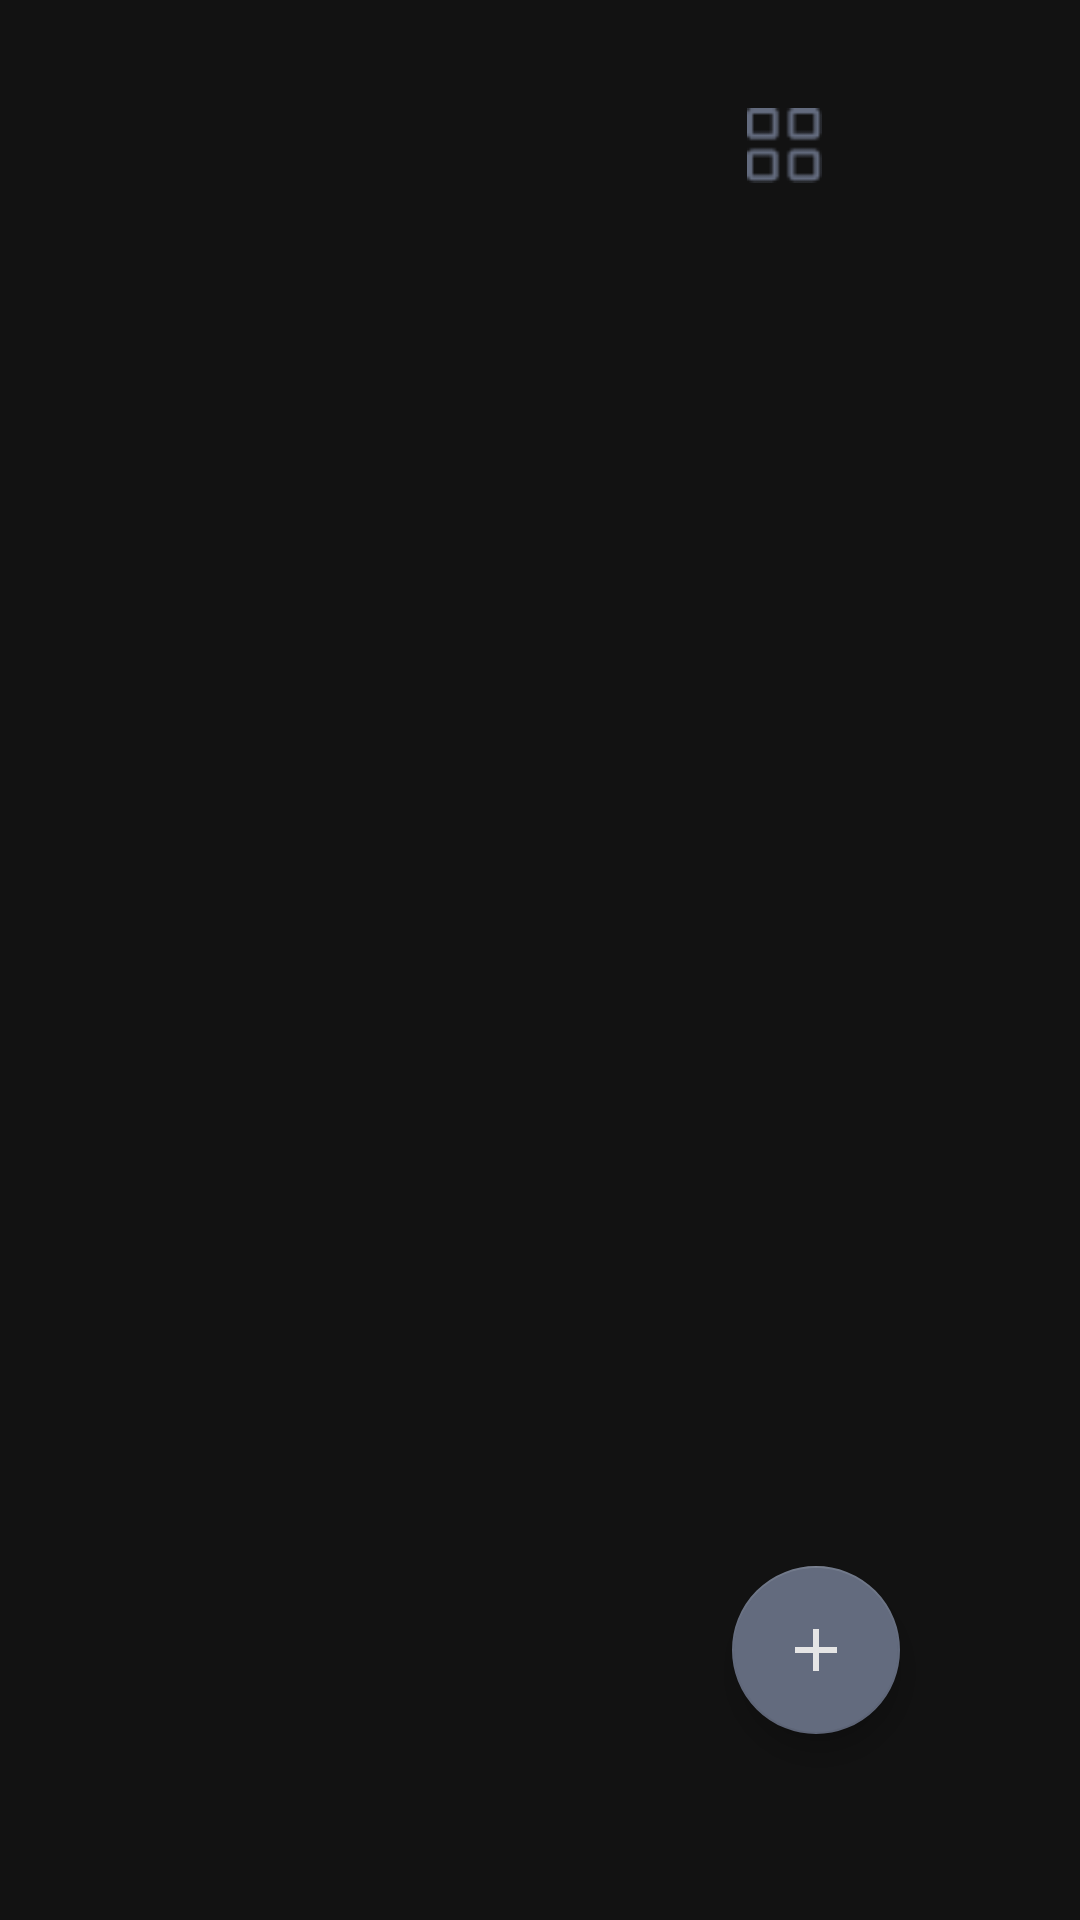

Where icons sit on this 1080x1920 app screen, as (x1, y1, x2, y2):
add: (732, 1566, 900, 1734)
grid layout: (747, 108, 822, 183)
